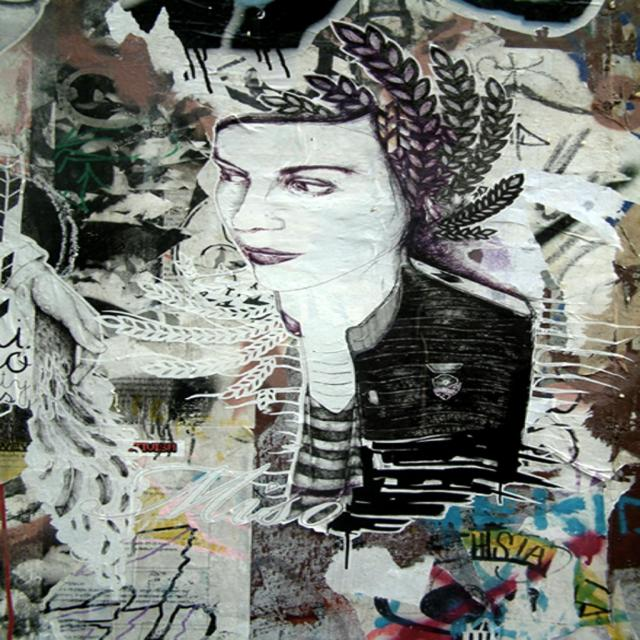nomask: (206, 96, 392, 278)
